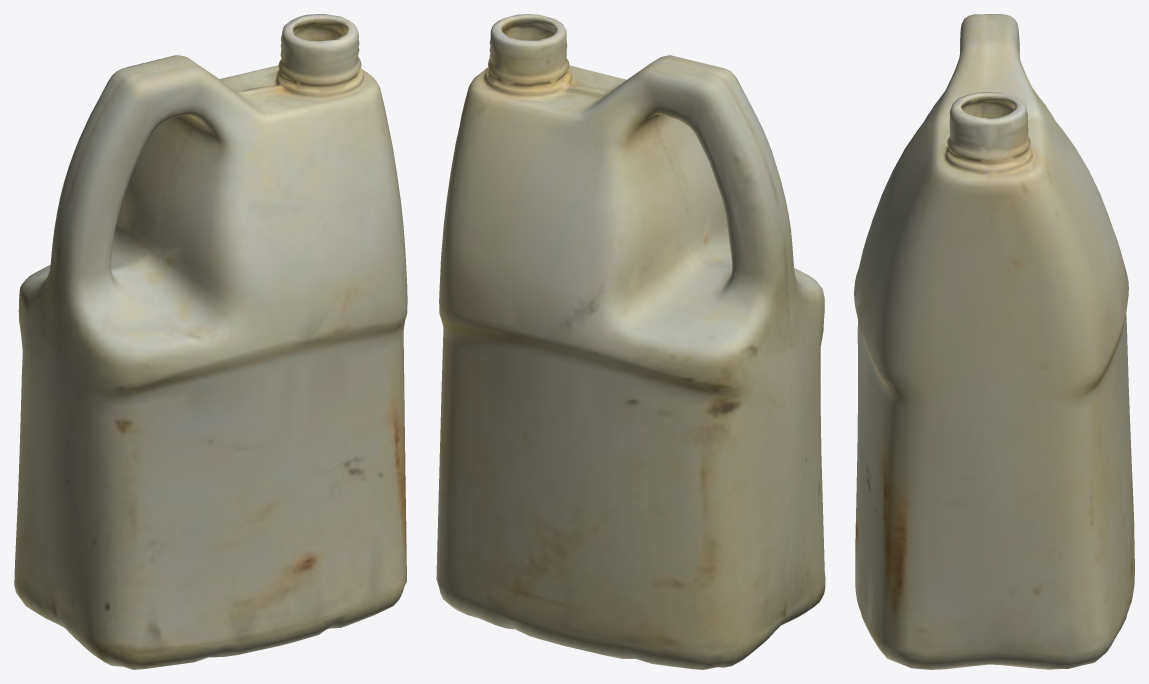
Rendered from plastic_bottle_gallon.glb.
3 views of the same model, side by side, from view 1: azimuth 30°, elevation 25°; view 2: azimuth 150°, elevation 25°; view 3: azimuth 270°, elevation 25° (orthographic).
Visible parts, largest first — view 1: plastic_bottle_gallon; view 2: plastic_bottle_gallon; view 3: plastic_bottle_gallon.
Part boxes in pixels (x1=…): plastic_bottle_gallon: x1=14, y1=14, x2=407, y2=669; plastic_bottle_gallon: x1=436, y1=14, x2=825, y2=669; plastic_bottle_gallon: x1=854, y1=14, x2=1134, y2=669.
Bounding box in the file's own units: 0.1662 × 0.2745 × 0.1263.
Materials: 1 (1 with a texture image).
